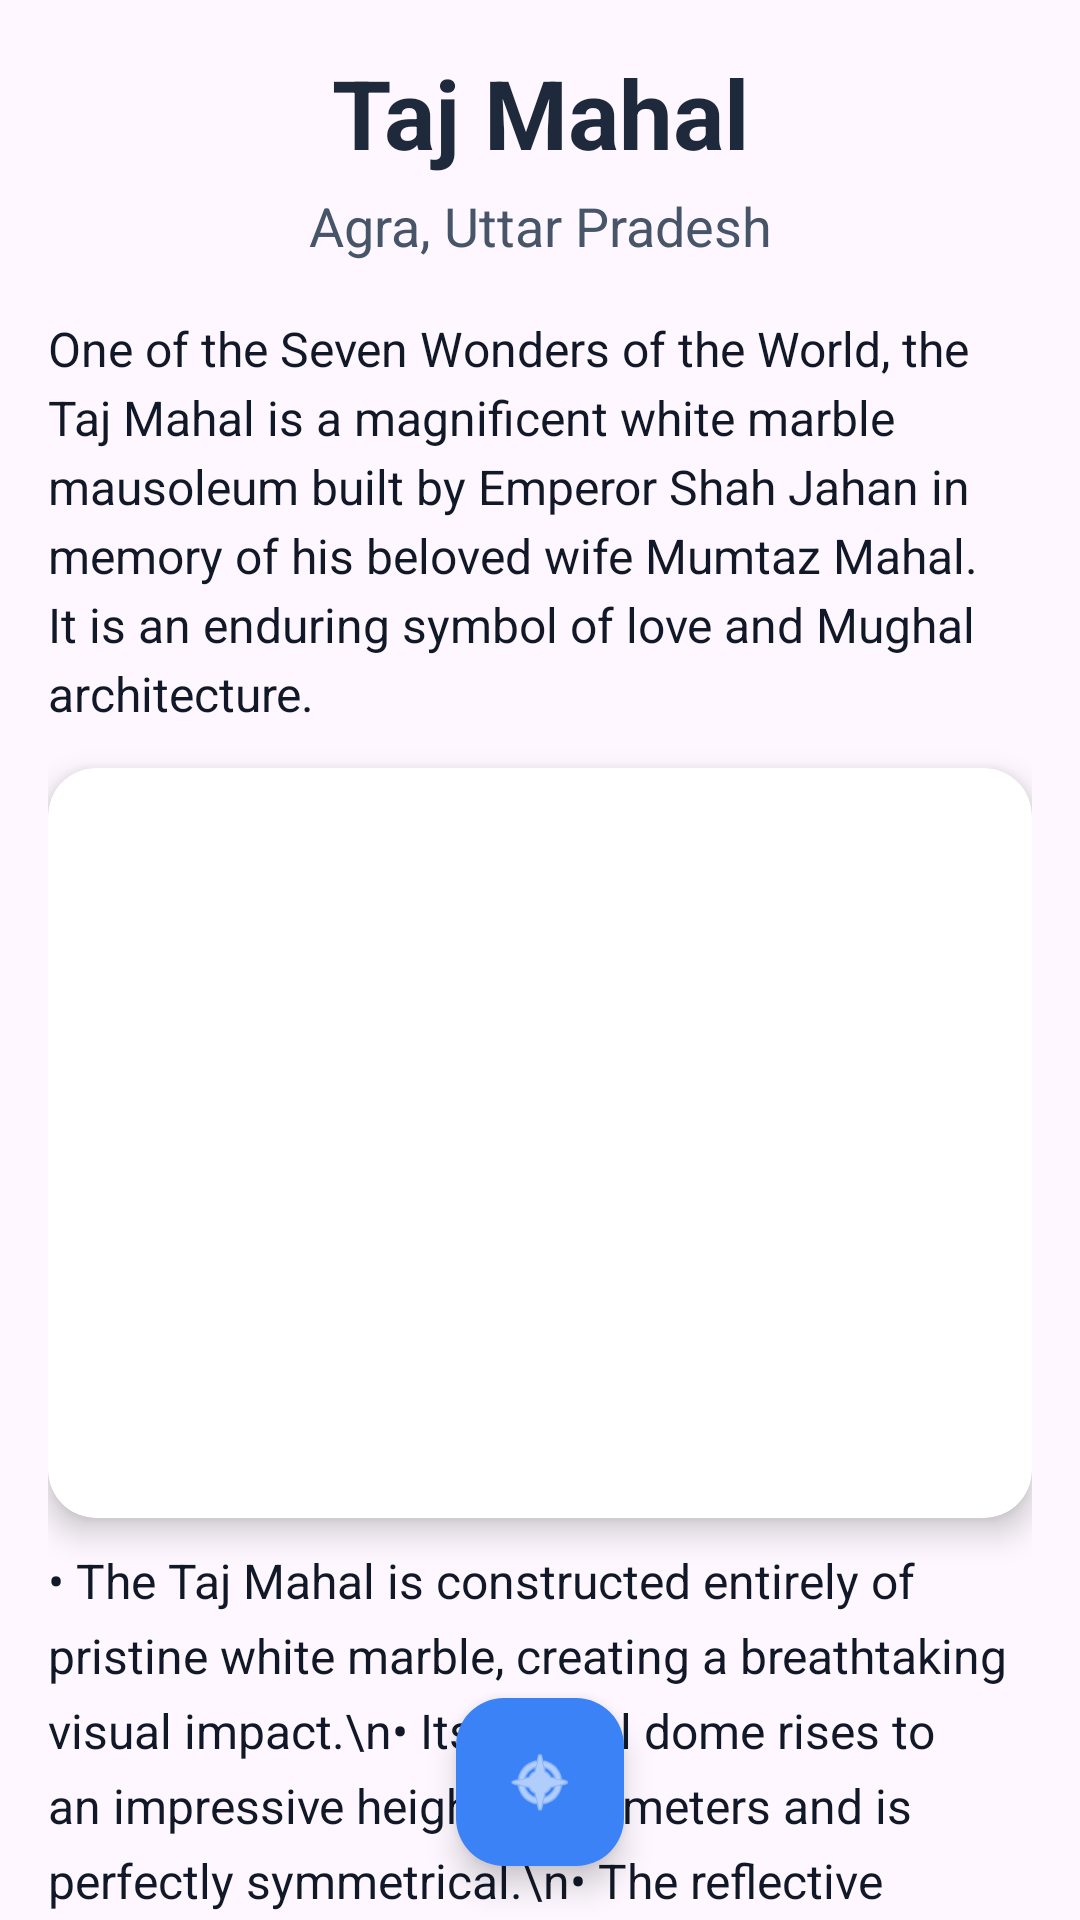

Named icons in this screenshot (1080w x 1920h) and their bounding boxes, rect(x1, y1, x2, y2):
compass: rect(456, 1698, 624, 1866)
